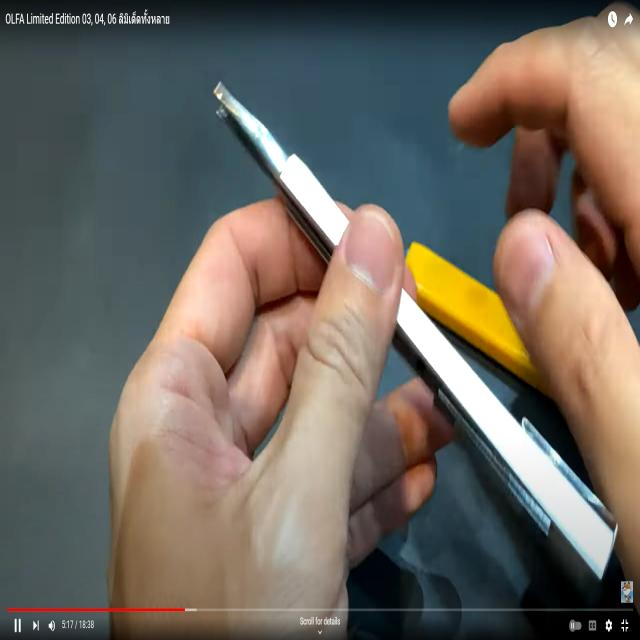cutter: (196, 41, 630, 600)
